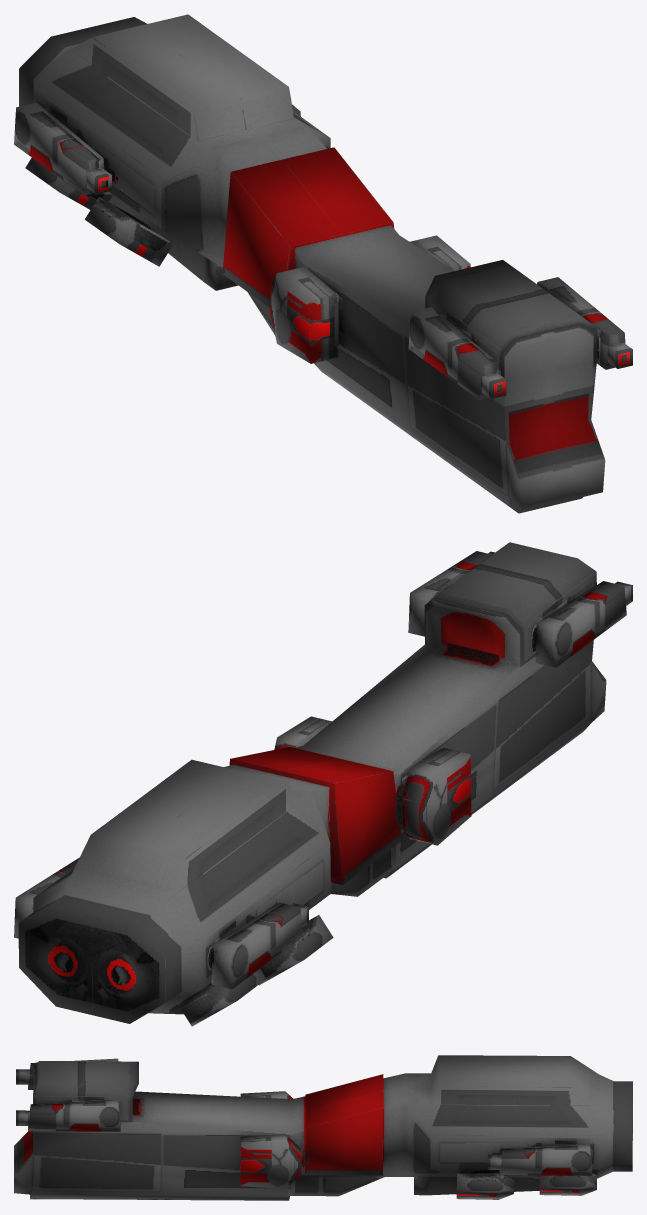
File: red_spaceship_02.fbx
3 renders of one model, top to bottom at view 1: azimuth 30°, elevation 25°; view 2: azimuth 150°, elevation 25°; view 3: azimuth 270°, elevation 25°, orthographic. The views are drawn at different scales.
Visible parts, largest first — view 1: RSFlagshipMod; view 2: RSFlagshipMod; view 3: RSFlagshipMod.
Part boxes in pixels (bbox=[...]): RSFlagshipMod: bbox=[14, 14, 632, 513]; RSFlagshipMod: bbox=[14, 542, 632, 1026]; RSFlagshipMod: bbox=[14, 1055, 632, 1200].
Size of the model in its own units: 1009 by 3758 by 806.
